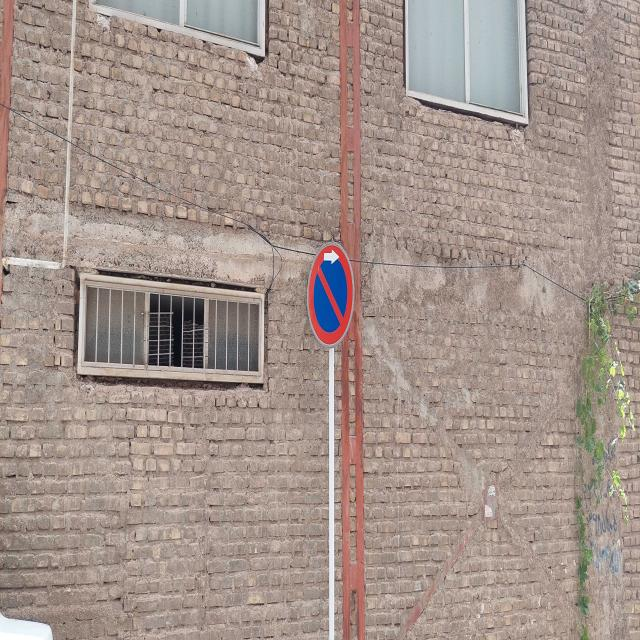forb_stopping: (304, 244, 355, 347)
